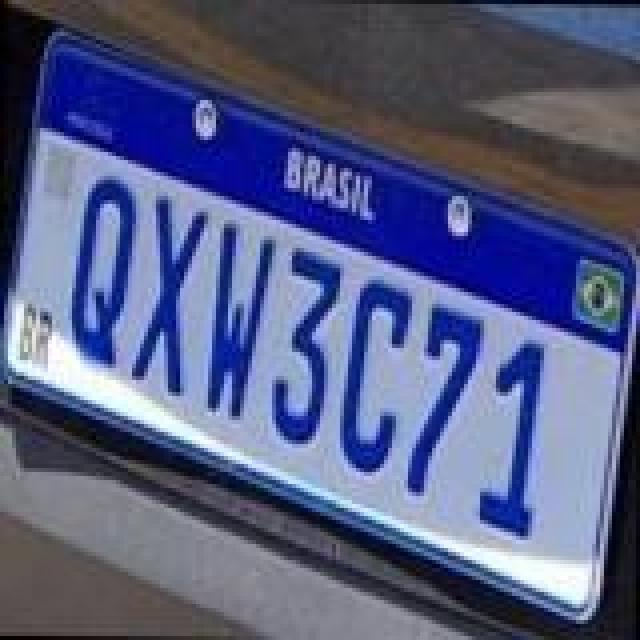1: (476, 336, 548, 544)
3: (266, 252, 342, 452)
7: (404, 302, 484, 498)
C: (338, 278, 414, 474)
Q: (68, 172, 140, 372)
W: (204, 218, 276, 422)
X: (128, 198, 208, 394)
